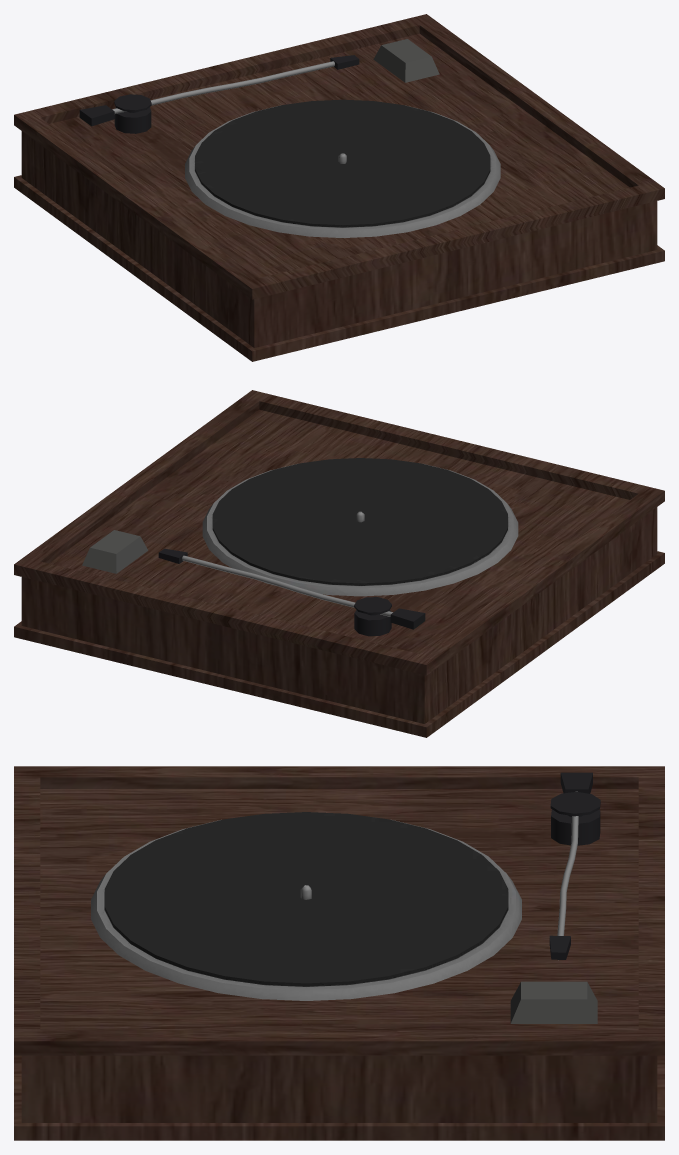
File: vinylspeler-transformed.glb
3 views of the same model, one above another, from view 1: azimuth 30°, elevation 25°; view 2: azimuth 150°, elevation 25°; view 3: azimuth 270°, elevation 25° (orthographic). The views are drawn at different scales.
Parts seen in each view (by area): view 1: polySurface103.001; view 2: polySurface103.001; view 3: polySurface103.001.
Boxes of the visible parts, x1=… form: polySurface103.001: x1=14, y1=14, x2=664, y2=361; polySurface103.001: x1=14, y1=390, x2=664, y2=737; polySurface103.001: x1=14, y1=766, x2=664, y2=1140.
Bounding box in the file's own units: 9.32 × 1.9 × 9.32.
1 material, 1 textured.
